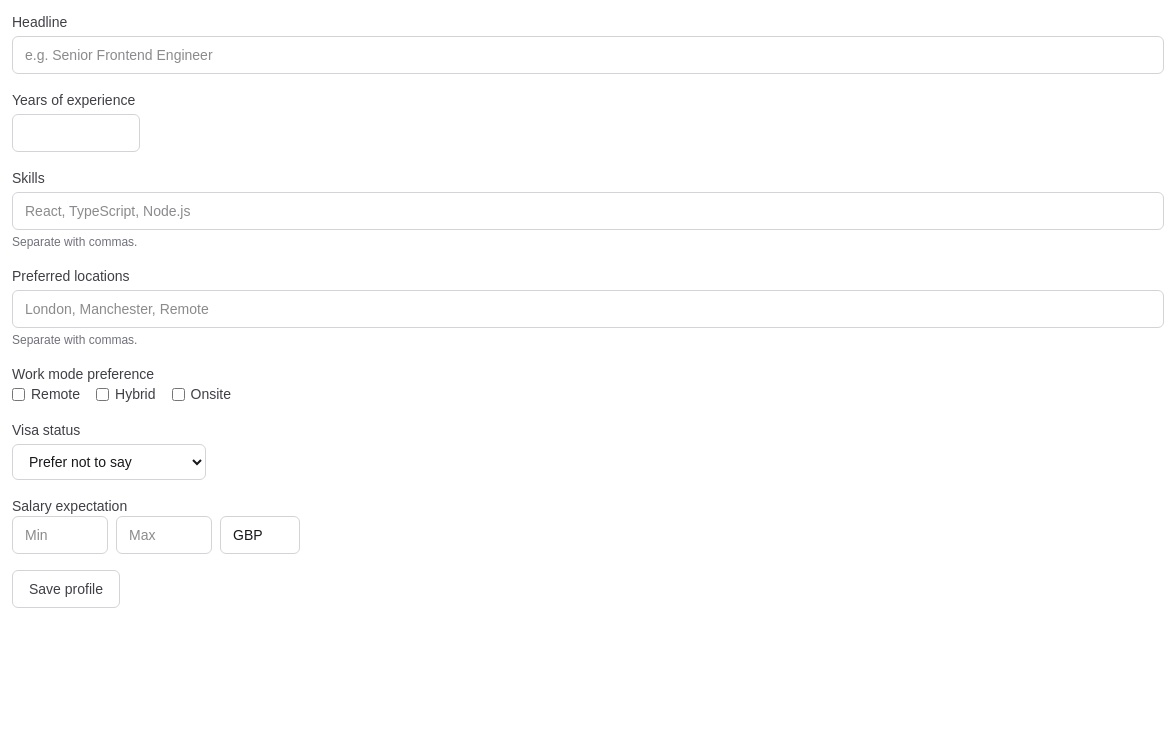
Scenario: ProfileForm › disables the submit button while saving
The width and height of the screenshot is (1176, 732).
Step 1. Click the button "Save profile" → (66, 589), box [12,570,120,608]
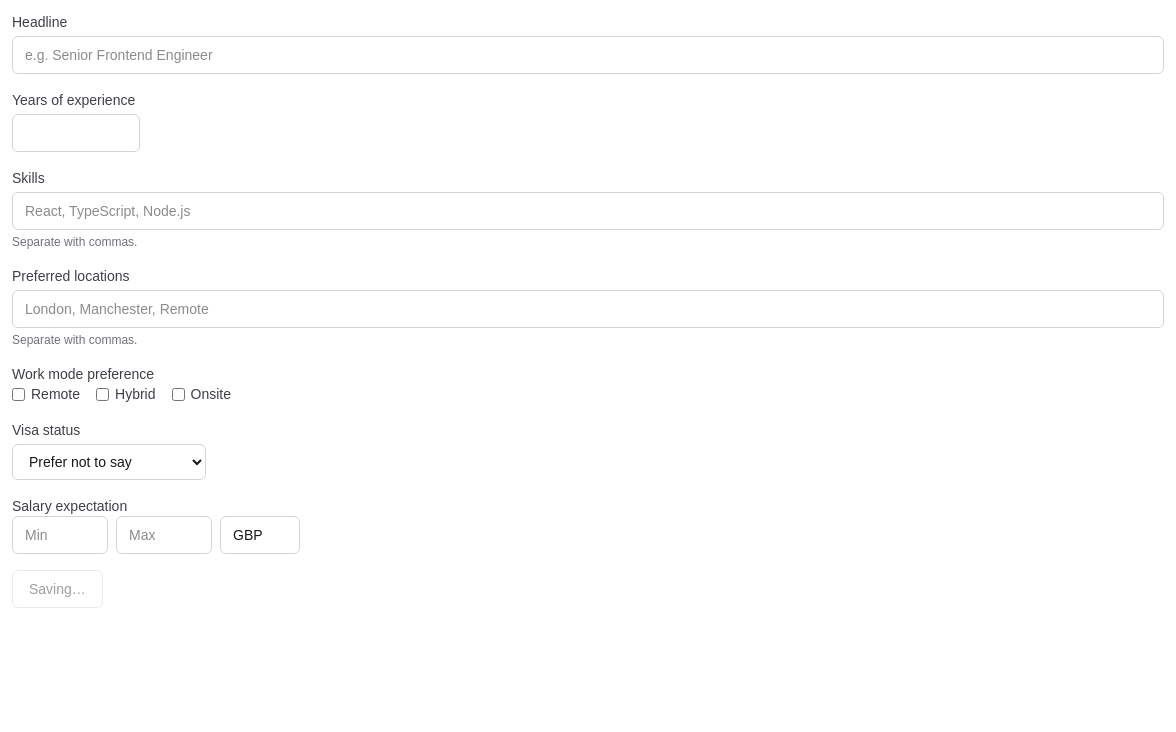
Check: the button "Saving…" is disabled, box [12,570,103,608]
